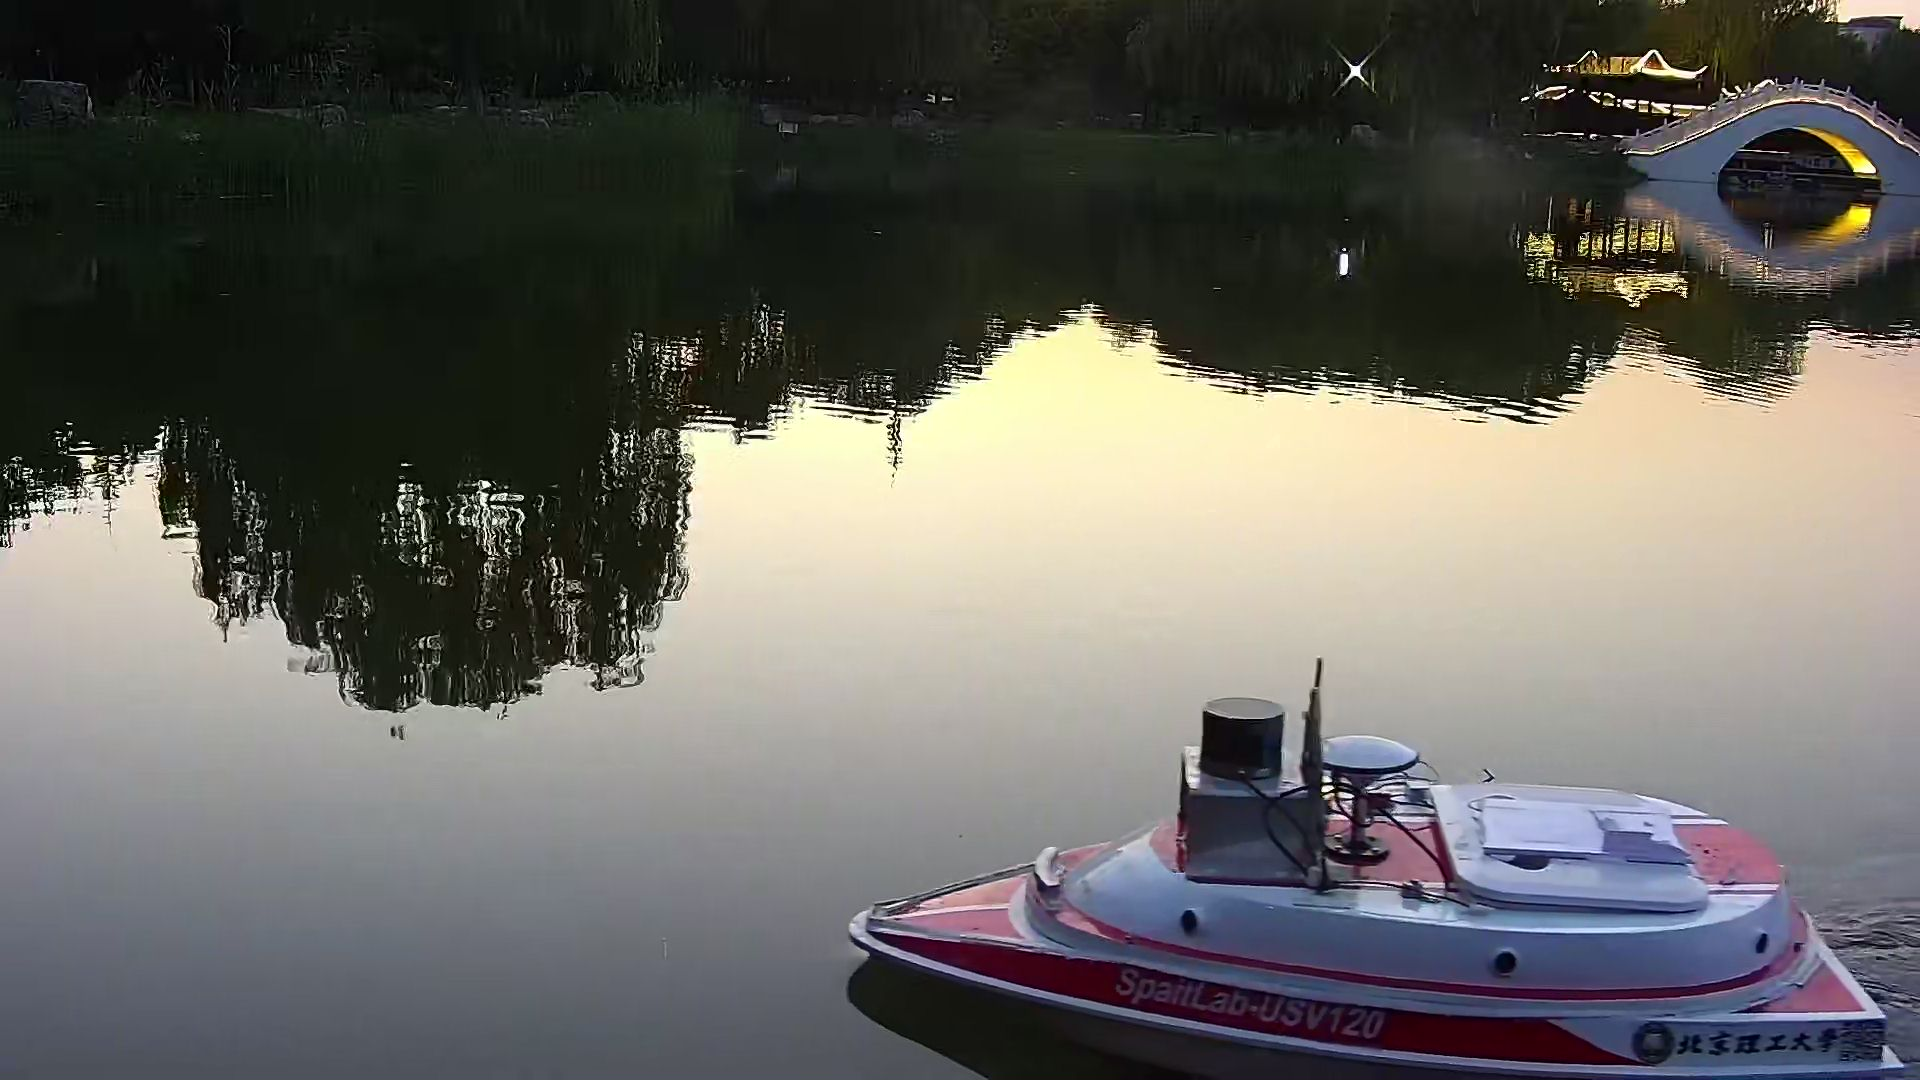boat: (828, 665, 1917, 1080)
bridge: (1625, 75, 1920, 185)
